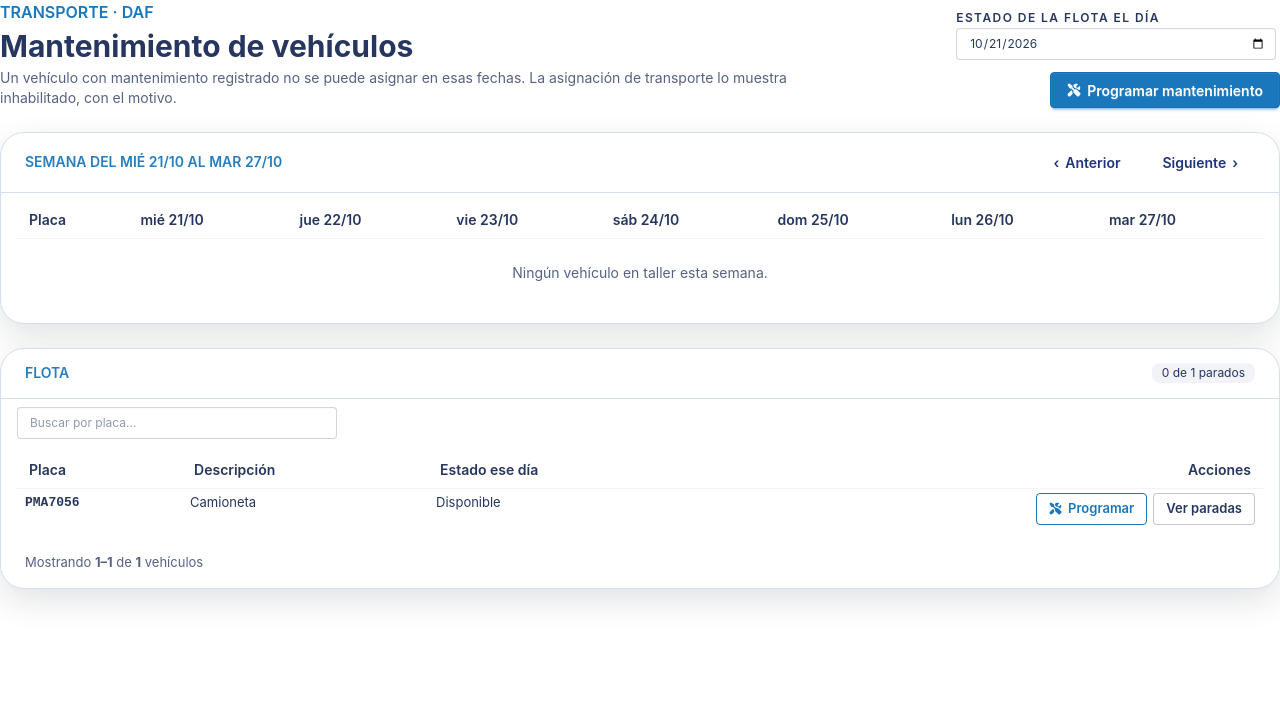
Test case: Cajón estándar · Paradas → Registrar parada › Escape cierra solo el registro y vuelve a las paradas
Click the button "Ver paradas" at point(1204, 509), box [1153, 493, 1255, 525]
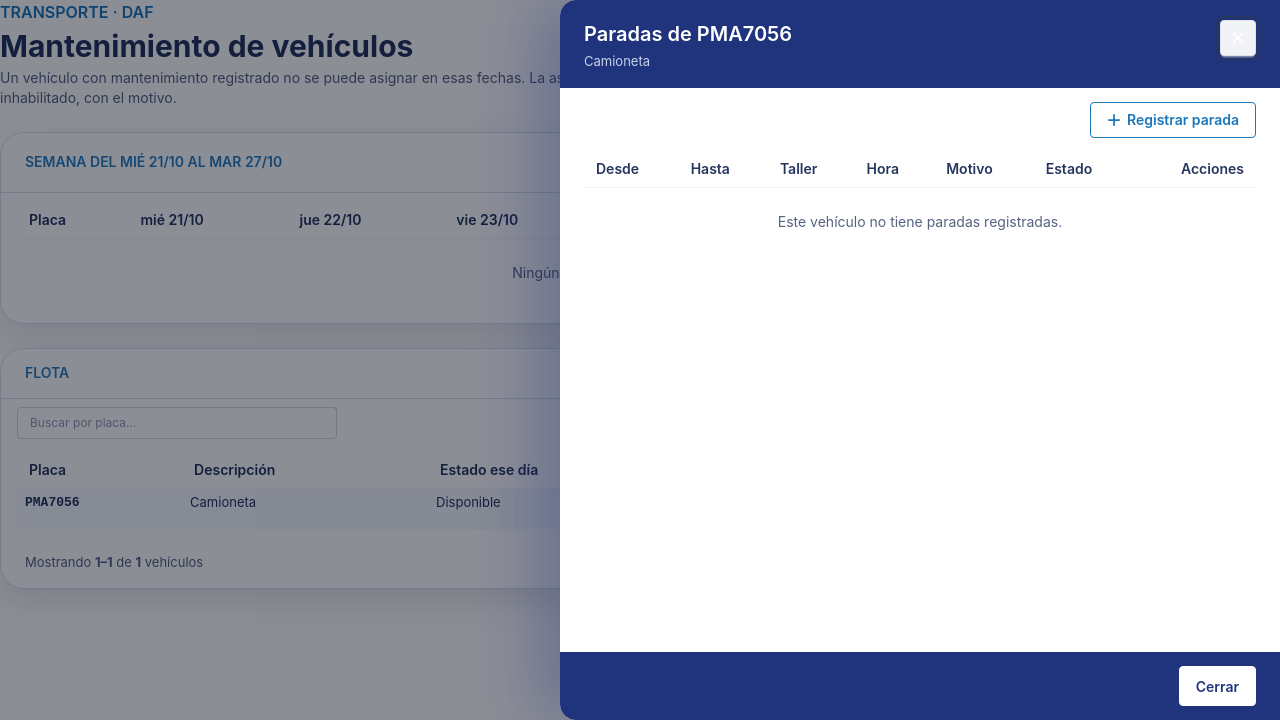
Click the button "Registrar parada" at point(1173, 120), box [1090, 102, 1256, 138]
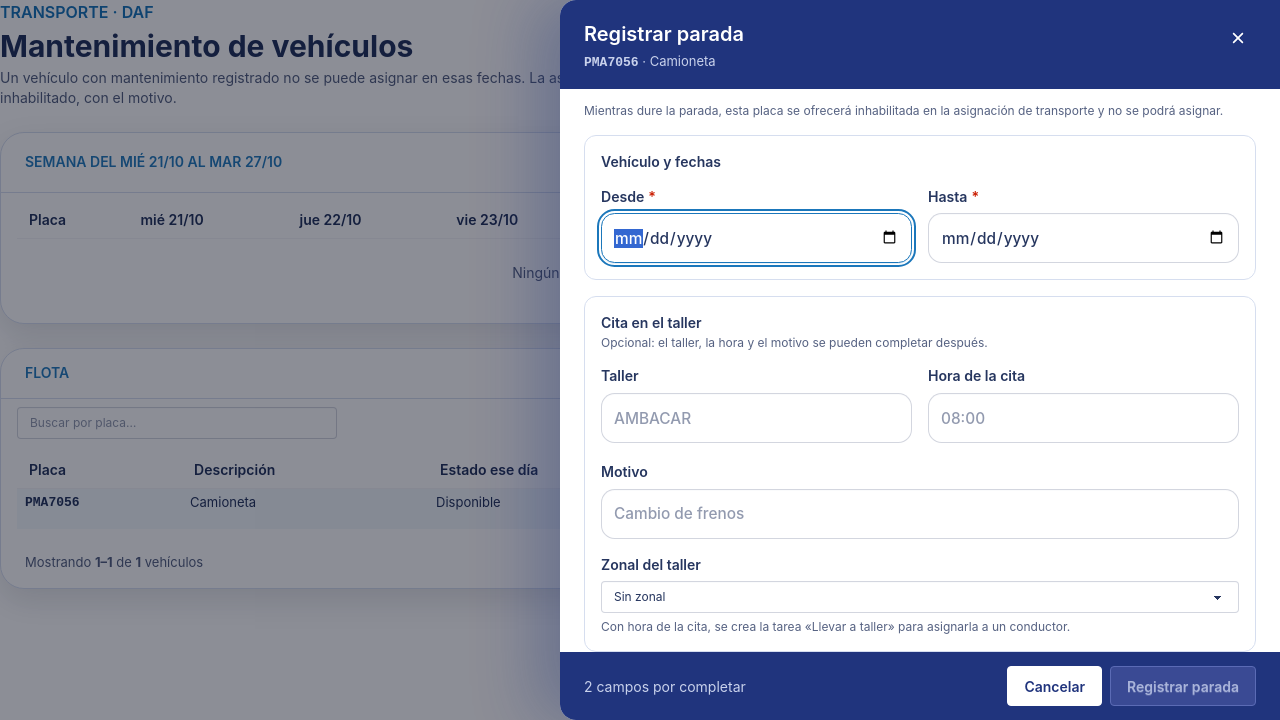
Check: the dialog "Registrar parada" is shown, box [560, 0, 1279, 719]
Press Escape
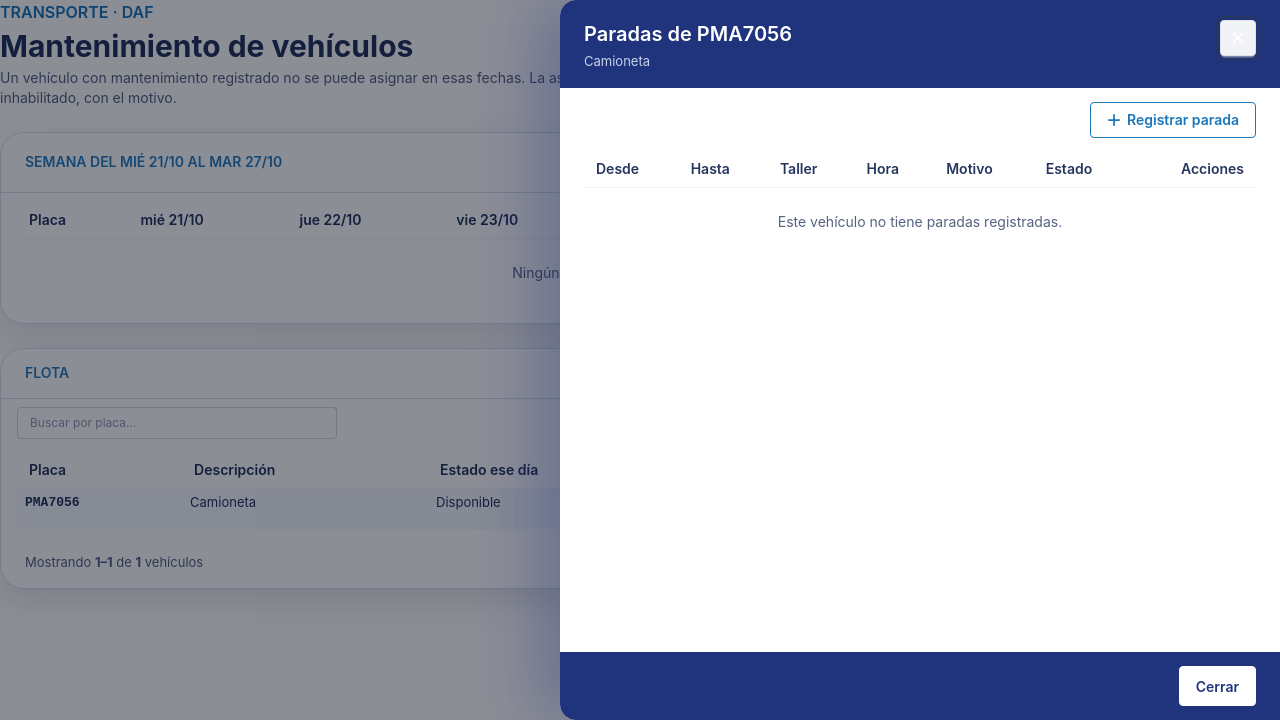
Check: the dialog "Paradas de PMA7056" is shown, box [560, 0, 1279, 719]
